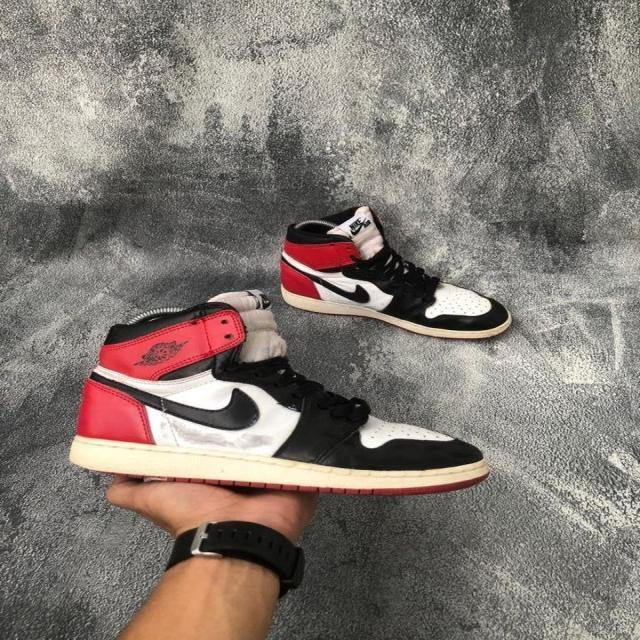nike fake jordan 1: (66, 284, 492, 494), (282, 204, 524, 344)
